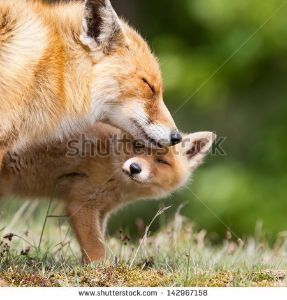fox: (6, 1, 182, 150), (75, 124, 215, 266)
